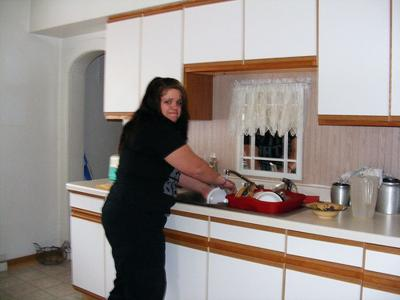person: (102, 74, 241, 298)
